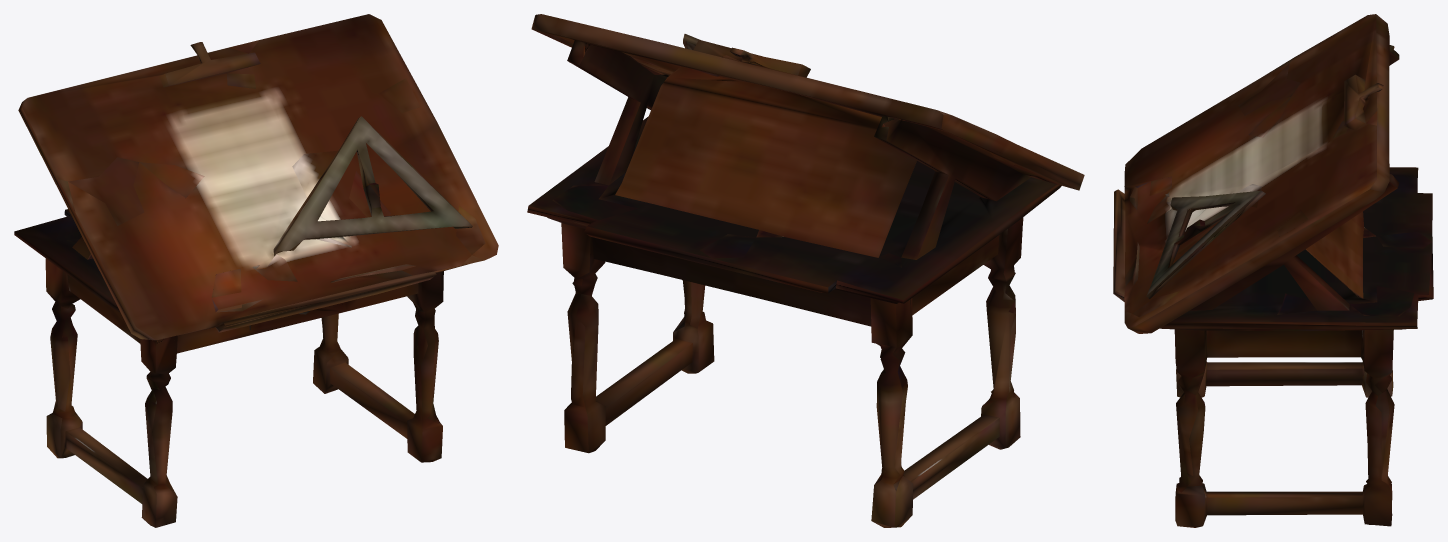
The model's file is tablero_dibujo.movil.glb.
The picture shows the model from 3 angles, left to right: view 1: azimuth 30°, elevation 25°; view 2: azimuth 150°, elevation 25°; view 3: azimuth 270°, elevation 25°; orthographic projection. The views are drawn at different scales.
Visible parts, largest first — view 1: geometry_0; view 2: geometry_0; view 3: geometry_0.
Boxes of the visible parts, x1=… form: geometry_0: x1=14, y1=14, x2=498, y2=527; geometry_0: x1=527, y1=14, x2=1084, y2=527; geometry_0: x1=1113, y1=14, x2=1433, y2=527.
Size of the model in its own units: 1.1 by 1.1 by 0.8468.
1 material, 1 textured.
